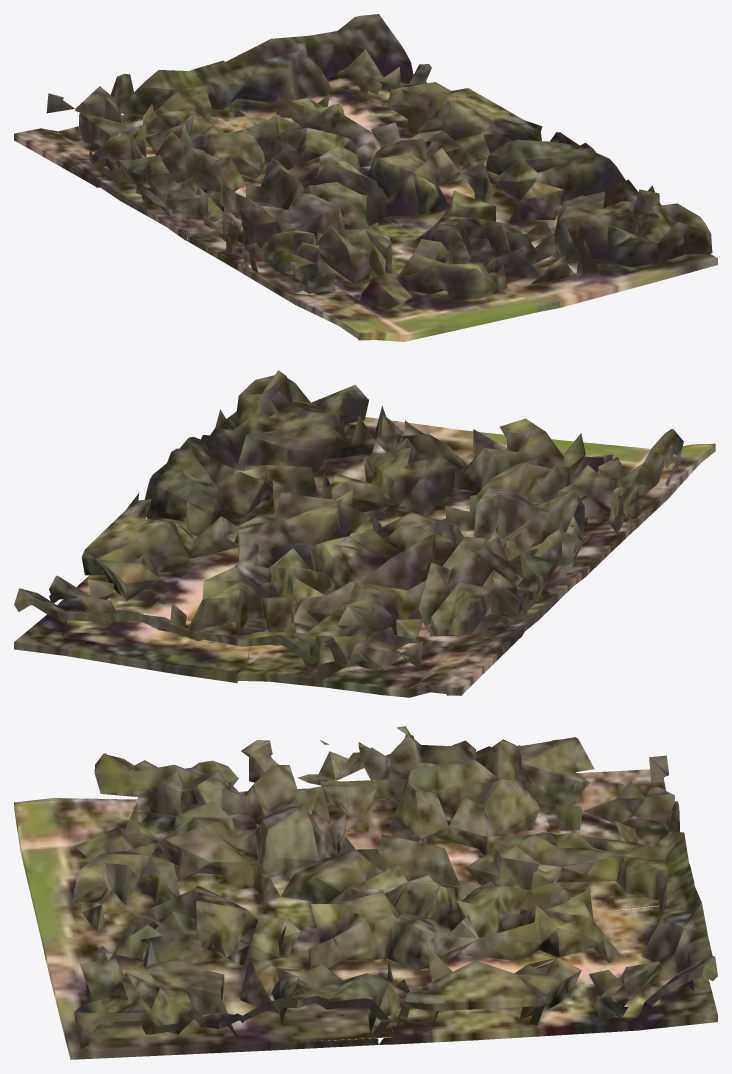
The picture shows the model from 3 angles, top to bottom: view 1: azimuth 30°, elevation 25°; view 2: azimuth 150°, elevation 25°; view 3: azimuth 270°, elevation 25°; orthographic projection. The views are drawn at different scales.
Visible parts, largest first — view 1: Mesh_0; view 2: Mesh_0; view 3: Mesh_0.
Boxes of the visible parts, x1,y1,x2,y2 form: Mesh_0: [14, 14, 717, 341]; Mesh_0: [14, 370, 715, 697]; Mesh_0: [14, 726, 717, 1059].
Size of the model in its own units: 266 by 56 by 330.
1 material, 1 textured.
